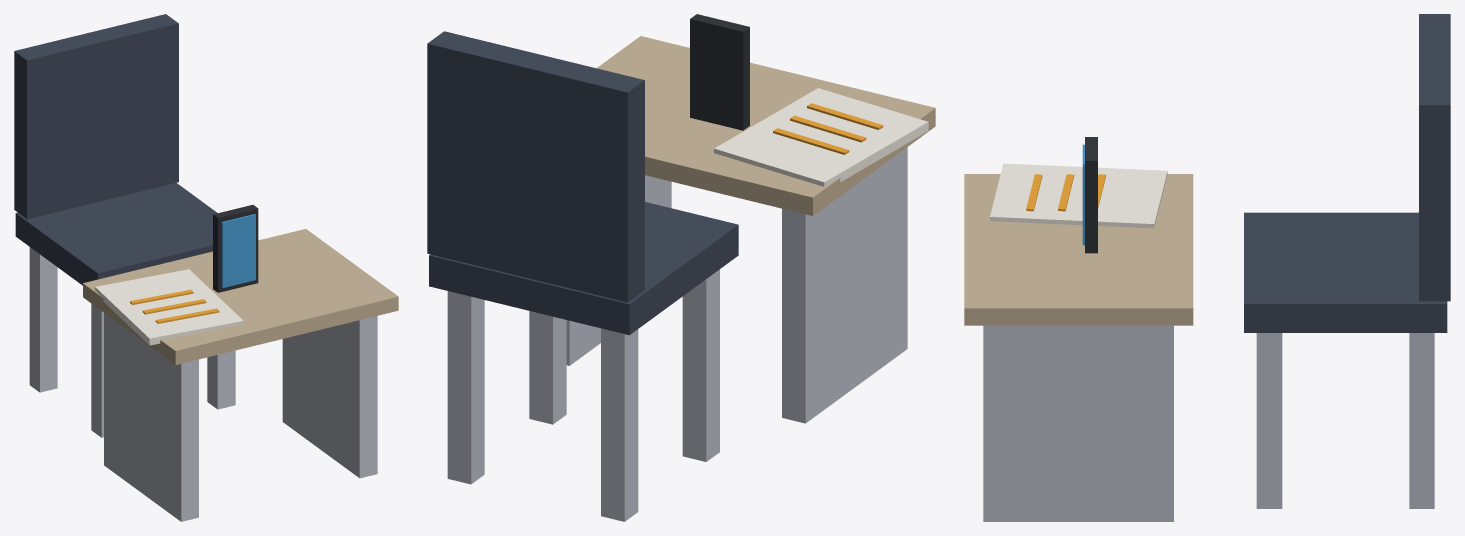
The model's file is station_special_3.glb.
The picture shows the model from 3 angles, left to right: view 1: azimuth 30°, elevation 25°; view 2: azimuth 150°, elevation 25°; view 3: azimuth 270°, elevation 25°; orthographic projection. The views are drawn at different scales.
Visible parts, largest first — view 1: stuhl_lehne, tisch_platte, tisch_bein, stuhl_sitz, tisch_bein.001, notizblock, stuhl_bein.001, handy_schirm, stuhl_bein, stuhl_bein.002, handy_koerper; view 2: stuhl_lehne, tisch_bein, tisch_platte, stuhl_sitz, notizblock, stuhl_bein.001, stuhl_bein.003, stuhl_bein, handy_koerper, stuhl_bein.002, tisch_bein.001; view 3: tisch_bein.001, tisch_platte, stuhl_sitz, stuhl_lehne, notizblock, stuhl_bein.002, stuhl_bein.003, handy_koerper.
Boxes of the visible parts, <box> form: stuhl_lehne: <box>14,14,178,218</box>; tisch_platte: <box>83,229,398,364</box>; tisch_bein: <box>104,313,198,521</box>; stuhl_sitz: <box>15,183,217,285</box>; tisch_bein.001: <box>282,316,377,478</box>; notizblock: <box>95,269,243,345</box>; stuhl_bein.001: <box>29,247,57,392</box>; handy_schirm: <box>221,214,255,287</box>; stuhl_bein: <box>91,303,103,437</box>; stuhl_bein.002: <box>207,350,235,409</box>; handy_koerper: <box>213,205,258,292</box>; stuhl_lehne: <box>427,31,644,302</box>; tisch_bein: <box>782,147,907,423</box>; tisch_platte: <box>597,36,935,215</box>; stuhl_sitz: <box>429,202,738,335</box>; notizblock: <box>714,88,928,186</box>; stuhl_bein.001: <box>601,328,638,521</box>; stuhl_bein.003: <box>447,291,484,484</box>; stuhl_bein: <box>682,269,719,461</box>; handy_koerper: <box>690,14,749,130</box>; stuhl_bein.002: <box>529,311,566,424</box>; tisch_bein.001: <box>566,175,671,365</box>; tisch_bein.001: <box>983,325,1173,521</box>; tisch_platte: <box>964,174,1193,325</box>; stuhl_sitz: <box>1244,212,1447,332</box>; stuhl_lehne: <box>1419,14,1450,301</box>; notizblock: <box>990,163,1167,228</box>; stuhl_bein.002: <box>1256,333,1282,508</box>; stuhl_bein.003: <box>1409,333,1434,508</box>; handy_koerper: <box>1085,137,1097,253</box>.
Size of the model in its own units: 0.523 by 0.71 by 0.765.
